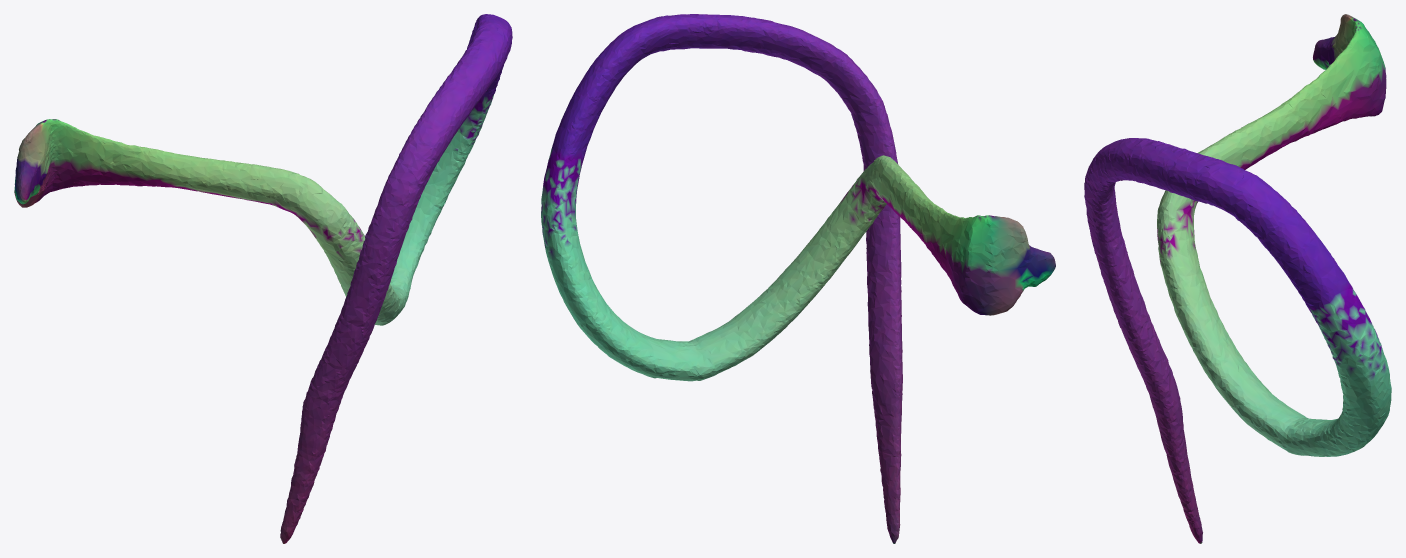
File: snake-4.off.obj
3 views of the same model, side by side, from view 1: azimuth 30°, elevation 25°; view 2: azimuth 150°, elevation 25°; view 3: azimuth 270°, elevation 25° (orthographic). The views are drawn at different scales.
Size of the model in its own units: 1.39 by 1.27 by 0.7216.
